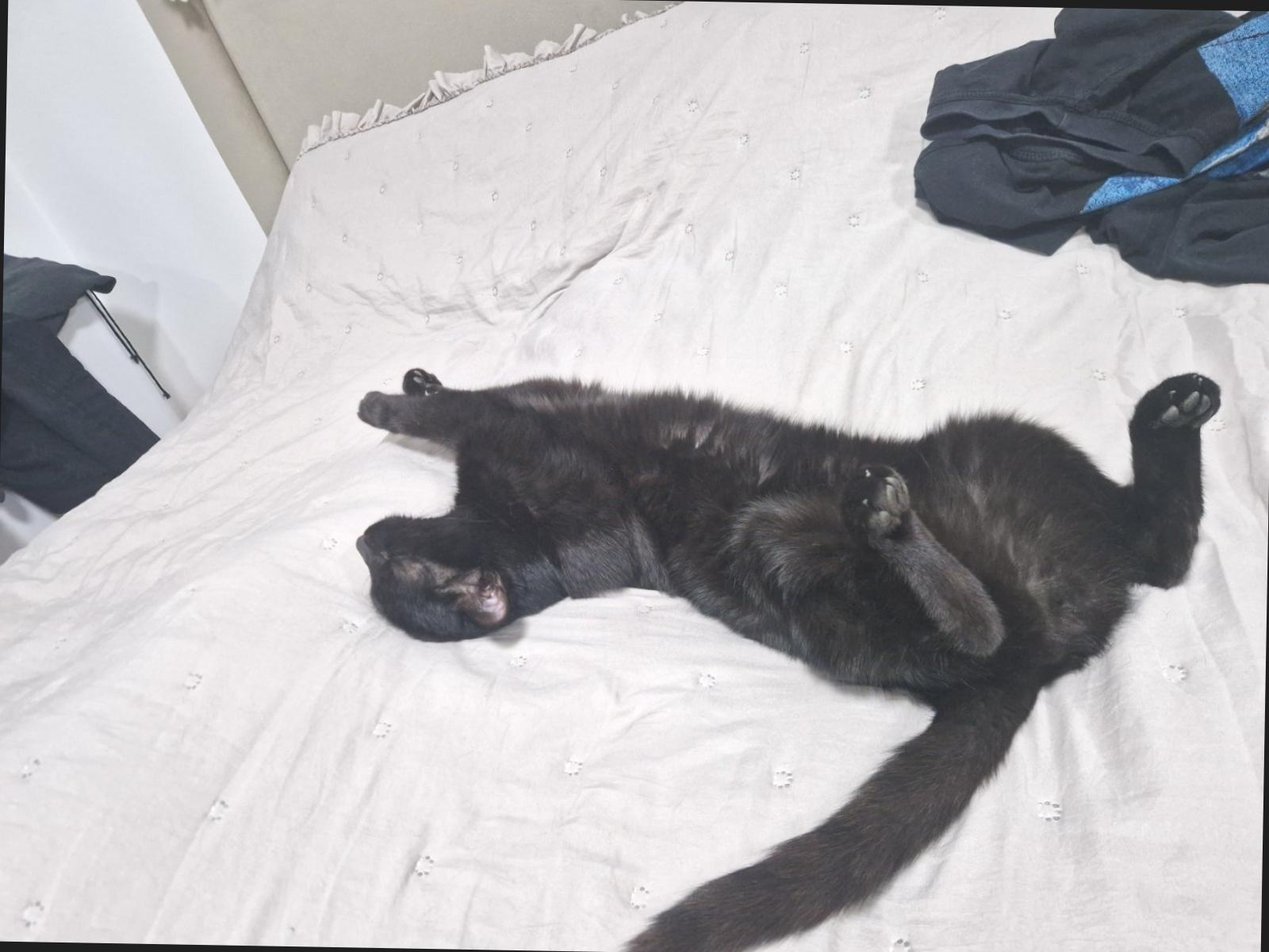macka: (344, 345, 1231, 952)
